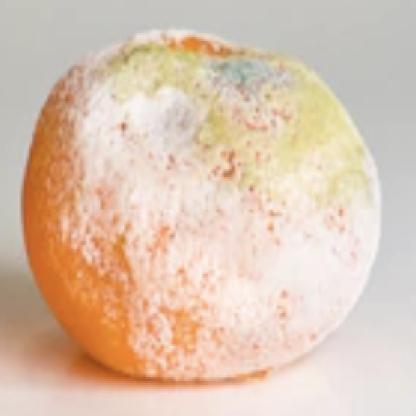rotten: (24, 25, 385, 383)
